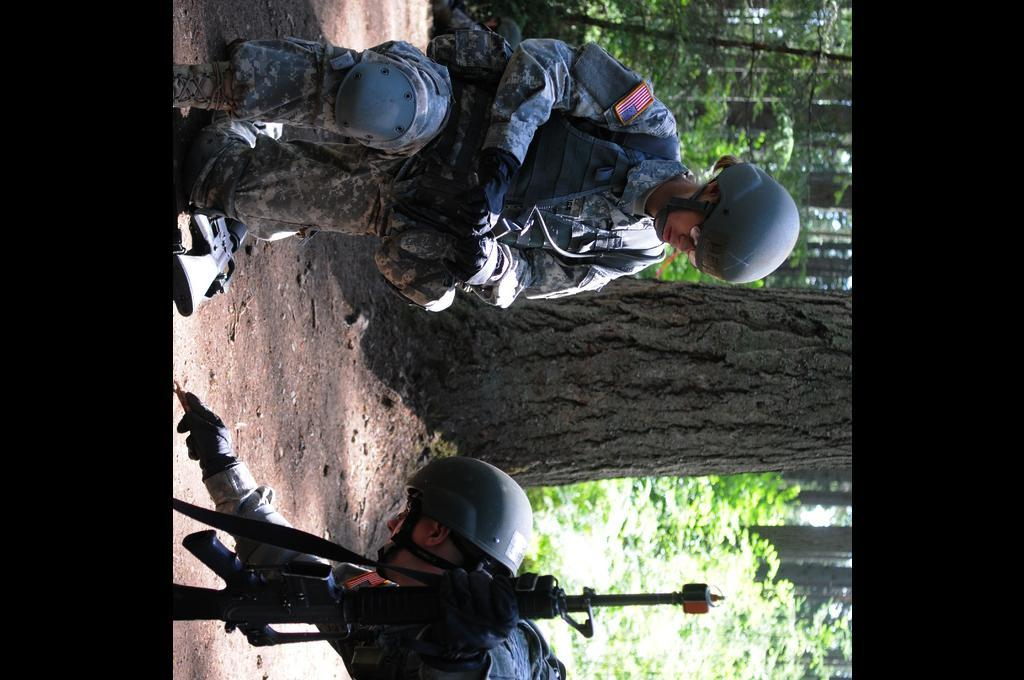gun: (172, 530, 729, 650)
